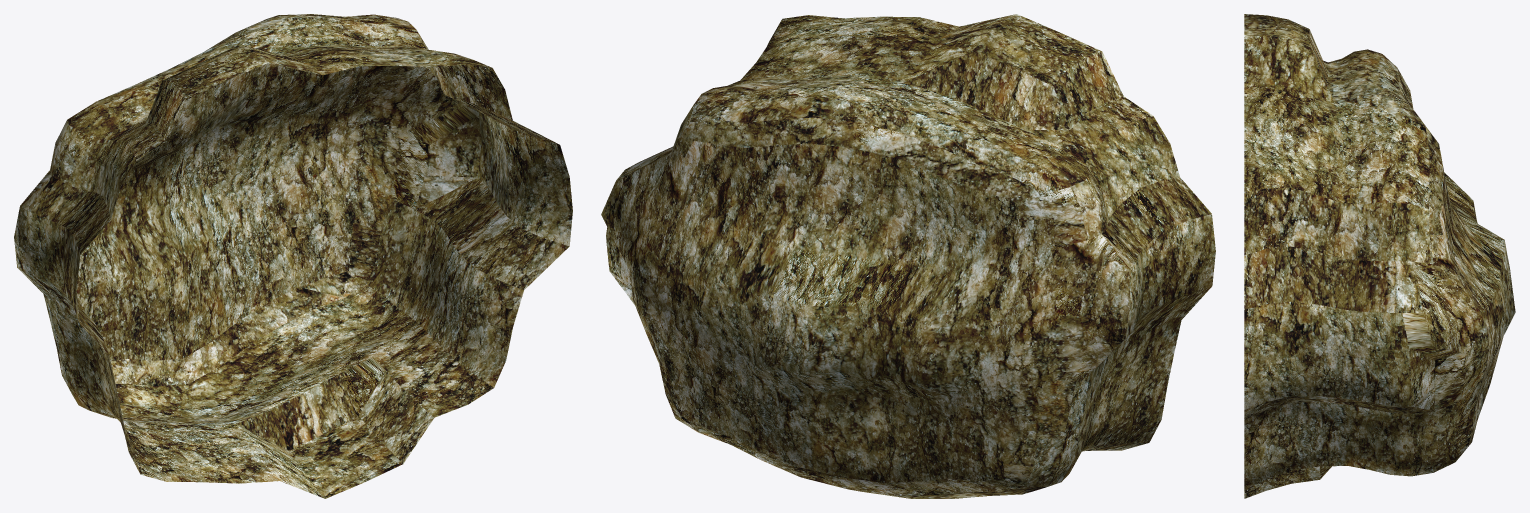
The model's file is rocks.FBX.
3 views of the same model, side by side, from view 1: azimuth 30°, elevation 25°; view 2: azimuth 150°, elevation 25°; view 3: azimuth 270°, elevation 25° (orthographic). The views are drawn at different scales.
Parts seen in each view (by area): view 1: Box01; view 2: Box01; view 3: Box01.
Part boxes in pixels (x1,y1,x2,y2): Box01: [14, 14, 572, 498]; Box01: [601, 14, 1215, 498]; Box01: [1244, 14, 1515, 498].
Size of the model in its own units: 11206 by 9726 by 5735.
